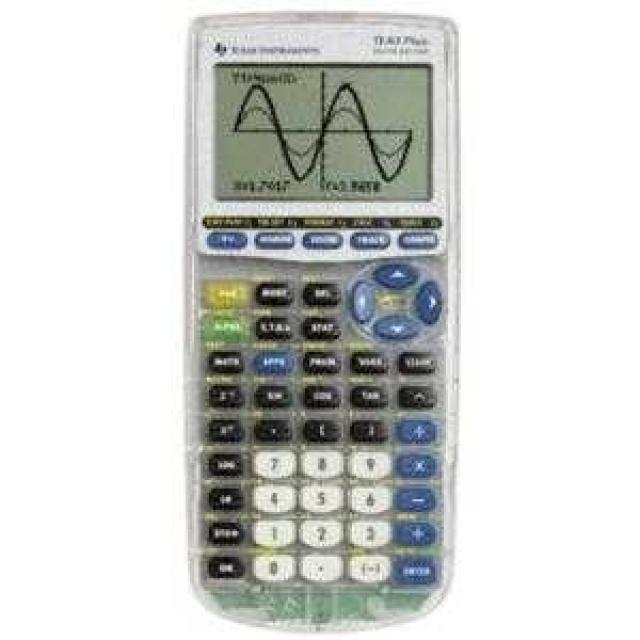Calculator: (181, 6, 461, 632)
